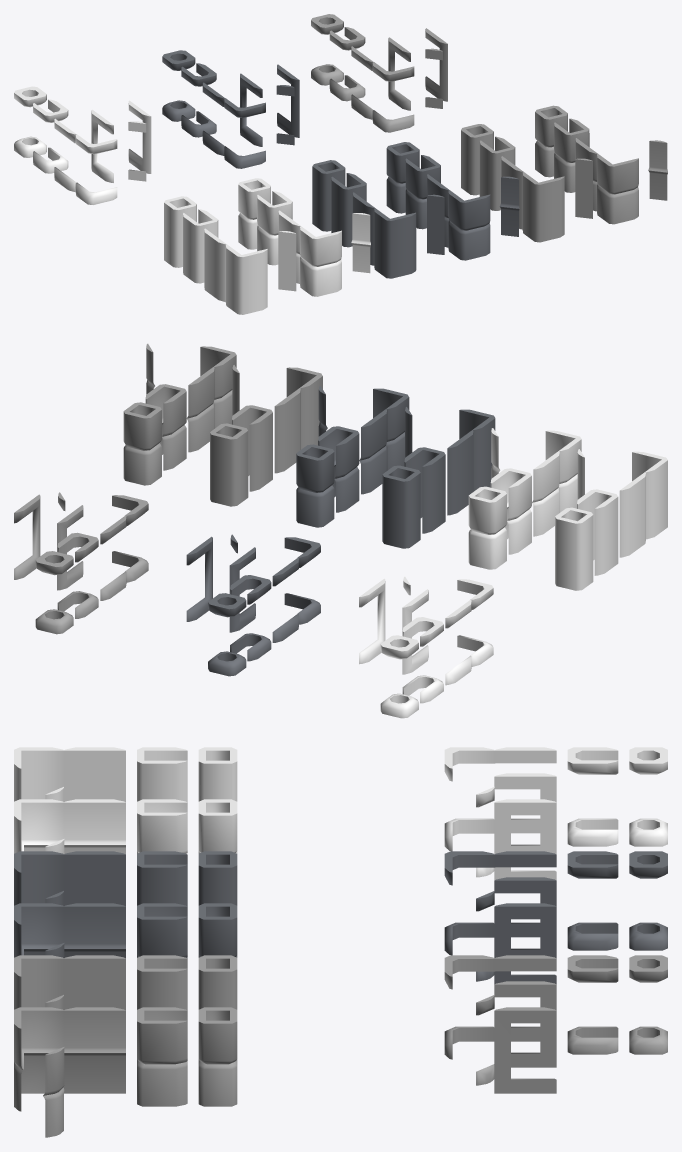
Rendered from wall panels.fbx.
3 renders of one model, top to bottom at view 1: azimuth 30°, elevation 25°; view 2: azimuth 150°, elevation 25°; view 3: azimuth 270°, elevation 25°, orthographic. The views are drawn at different scales.
Visible parts, largest first — view 1: Wall Panel Light L-1-a, Wall Panel L-1-a, Wall Panel Dark L-1-a, Wall Panel L-1-b, Wall Panel Light L-1-b, Wall Panel Dark L-1-b, Wall Panel Dark C-a, Wall Panel Light C-a, Wall Panel Dark C-b, Wall Panel Light C-b, Wall Panel O-a, Wall Panel C-a (+36 smaller); view 2: Wall Panel Dark O-a, Wall Panel O-a, Wall Panel Light O-a, Wall Panel Dark O-b, Wall Panel Light O-b, Wall Panel O-b, Wall Panel Dark C-a, Wall Panel C-a, Wall Panel C-b, Wall Panel Light C-b, Wall Panel Dark C-b, Wall Panel Light C-a (+30 smaller); view 3: Wall Panel Light I-b, Wall Panel Light C-b, Wall Panel Light O-b, Wall Panel Light L-1-b, Wall Panel Dark I-a, Wall Panel Light I-a, Wall Panel I-a, Wall Panel I-b, Wall Panel Dark I-b, Window Panel Light I-3, Window Panel Dark C, Window Panel C (+32 smaller).
Boxes of the visible parts, box(x1,y1,x2,y2) form: Wall Panel Light L-1-a: box(522, 172, 564, 242); Wall Panel L-1-a: box(374, 208, 416, 278); Wall Panel Dark L-1-a: box(225, 244, 267, 314); Wall Panel L-1-b: box(448, 190, 490, 260); Wall Panel Light L-1-b: box(597, 154, 638, 224); Wall Panel Dark L-1-b: box(300, 226, 341, 296); Wall Panel Dark C-a: box(183, 209, 218, 283); Wall Panel Light C-a: box(479, 136, 515, 210); Wall Panel Dark C-b: box(257, 191, 292, 265); Wall Panel Light C-b: box(554, 118, 589, 192); Wall Panel O-a: box(312, 160, 345, 231); Wall Panel C-a: box(331, 173, 366, 247); Wall Panel Dark O-a: box(555, 507, 593, 590); Wall Panel O-a: box(382, 465, 420, 548); Wall Panel Light O-a: box(210, 423, 248, 506); Wall Panel Dark O-b: box(468, 486, 506, 569); Wall Panel Light O-b: box(123, 402, 161, 485); Wall Panel O-b: box(296, 444, 334, 527); Wall Panel Dark C-a: box(577, 489, 618, 575); Wall Panel C-a: box(404, 447, 445, 533); Wall Panel C-b: box(318, 426, 359, 512); Wall Panel Light C-b: box(145, 384, 186, 470); Wall Panel Dark C-b: box(490, 468, 531, 554); Wall Panel Light C-a: box(232, 405, 272, 491); Wall Panel Light I-b: box(63, 1007, 125, 1093); Wall Panel Light C-b: box(137, 1007, 187, 1106); Wall Panel Light O-b: box(198, 1007, 237, 1106); Wall Panel Light L-1-b: box(14, 1007, 64, 1111); Wall Panel Dark I-a: box(63, 747, 125, 802); Wall Panel Light I-a: box(63, 955, 125, 1010); Wall Panel I-a: box(63, 851, 125, 906); Wall Panel I-b: box(63, 903, 125, 958); Wall Panel Dark I-b: box(63, 799, 125, 854); Window Panel Light I-3: box(494, 1007, 556, 1093); Window Panel Dark C: box(567, 747, 618, 846); Window Panel C: box(567, 851, 618, 950).
Bounding box in the file's own units: 1063 × 149 × 1182.
